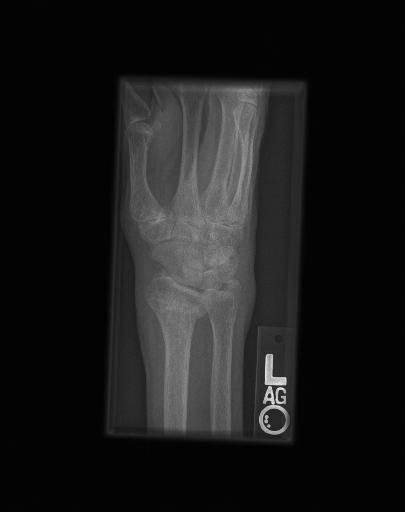fractured: (144, 290, 206, 324)
